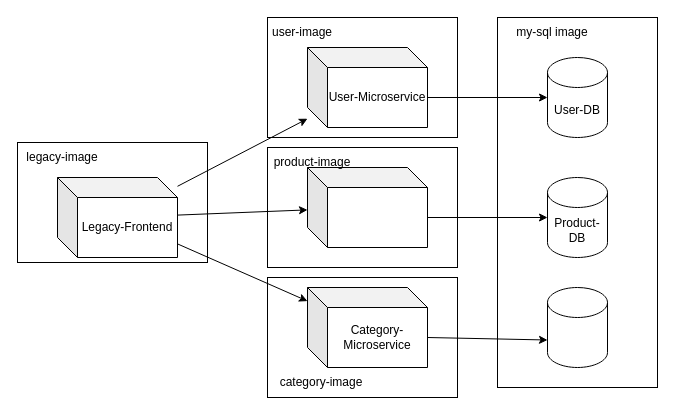
The diagram is 675 pixels wide and 415 high, and some of its shapes have lost their labels. The shapes that lost their labels are listed below. From the top down, each one's box as (x1, y1, x2, y2) in pixels, then its label:
(306, 166, 428, 248): Product-Microservice
(546, 286, 608, 368): Category-DB
